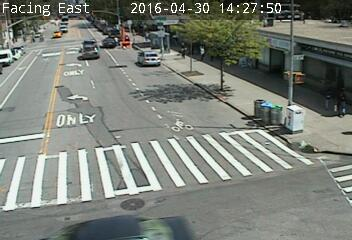neg: (279, 40, 300, 68), (119, 33, 131, 49), (51, 36, 62, 51), (138, 48, 149, 63), (208, 41, 219, 56), (117, 54, 128, 68), (154, 34, 165, 48), (82, 44, 91, 56), (265, 47, 274, 59), (74, 20, 82, 31)
pos: (176, 41, 189, 58), (27, 30, 37, 43), (9, 29, 19, 42), (18, 29, 28, 41)
